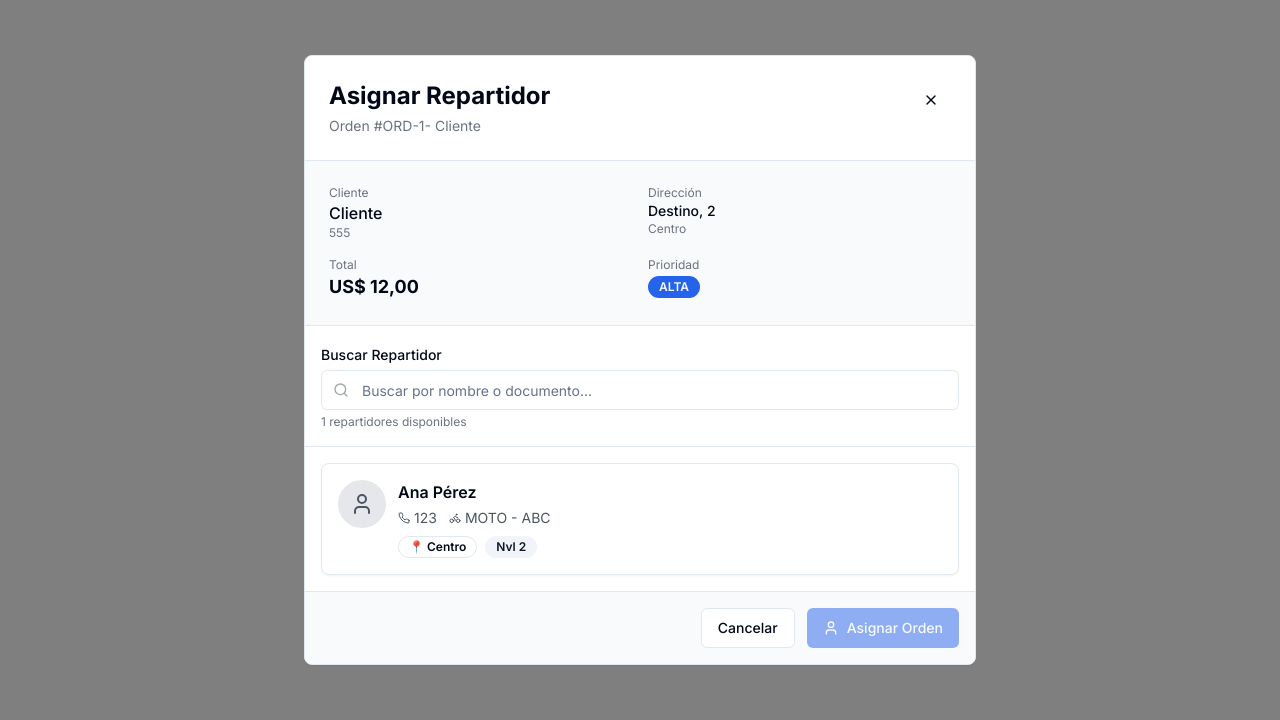
it: searches name and document and can clear an empty result
This screenshot has width=1280, height=720.
Type "123456" into the field labelled "Buscar Repartidor".
click(640, 390); type("123456")  # box [321, 370, 959, 410]
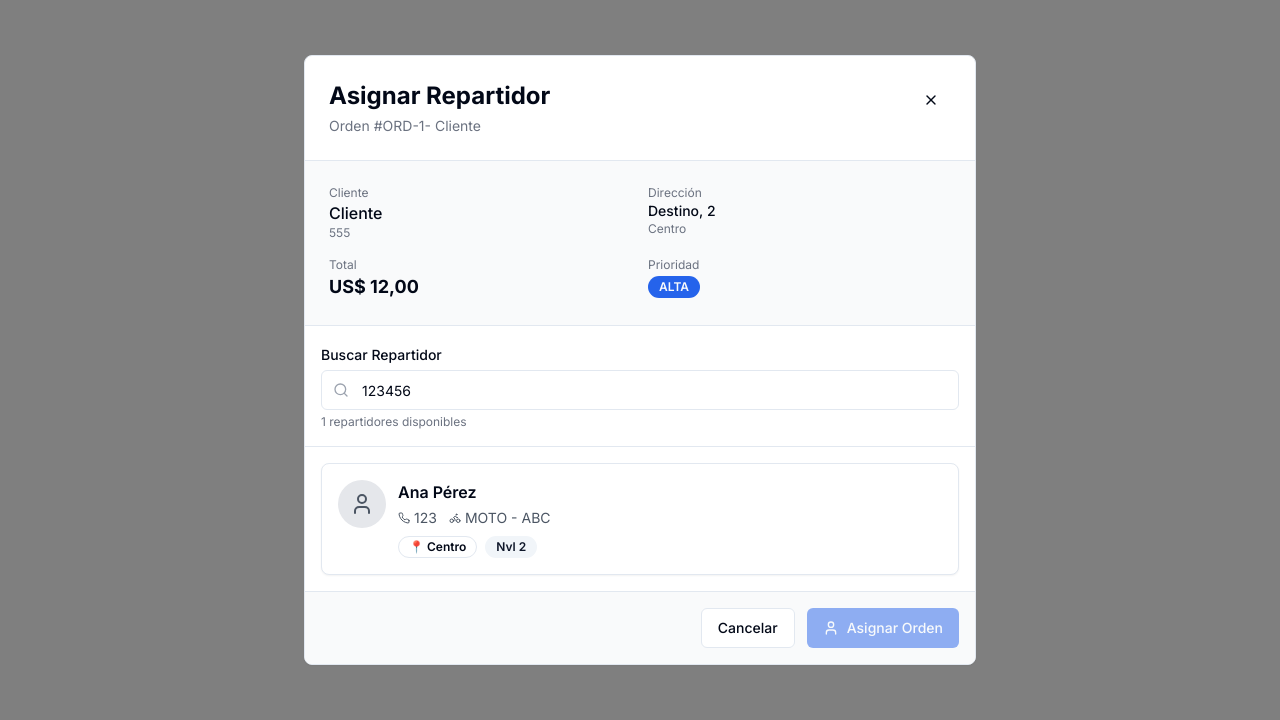
Expected: the button with aria-label "Seleccionar a Ana Pérez" is shown, [321, 463, 959, 575]
Replace the text in the field labelled "Buscar Repartidor" with "Not here" at x=640, y=390, box [321, 370, 959, 410]
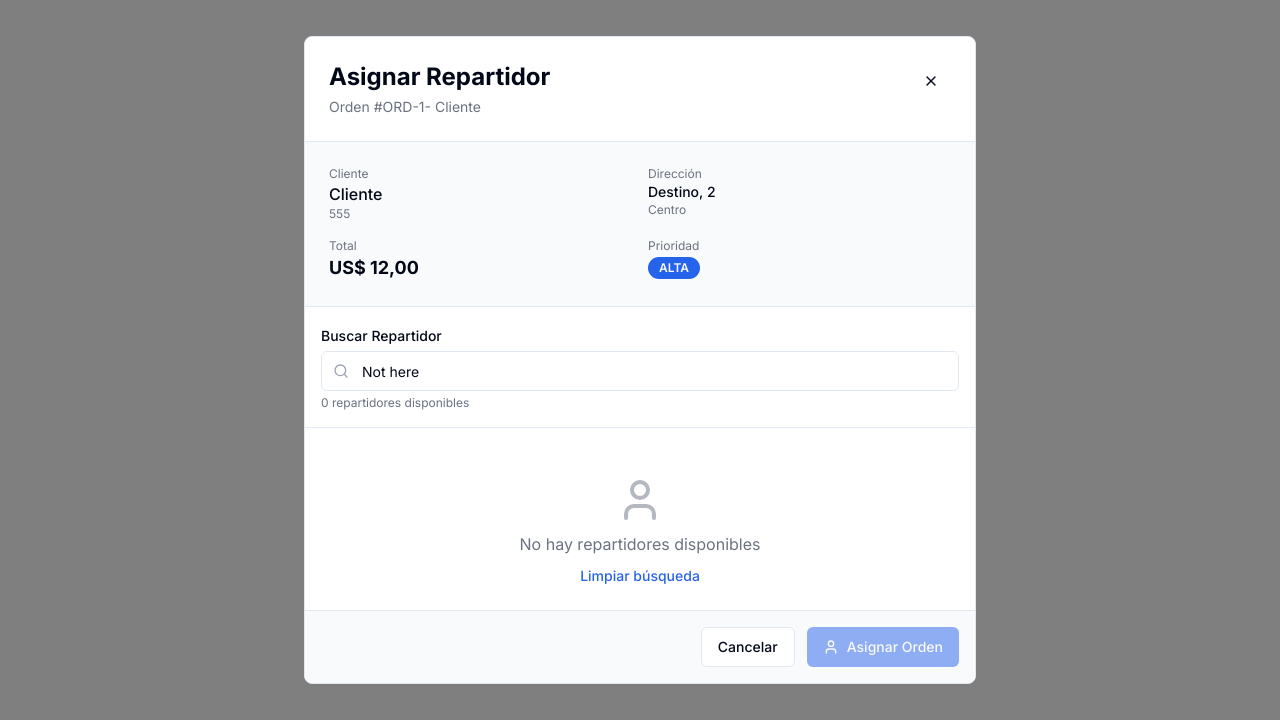
Now the text "No hay repartidores disponibles" is shown, box [520, 534, 760, 554]
Click the button "Limpiar búsqueda".
click(640, 576)  # box [564, 556, 716, 596]
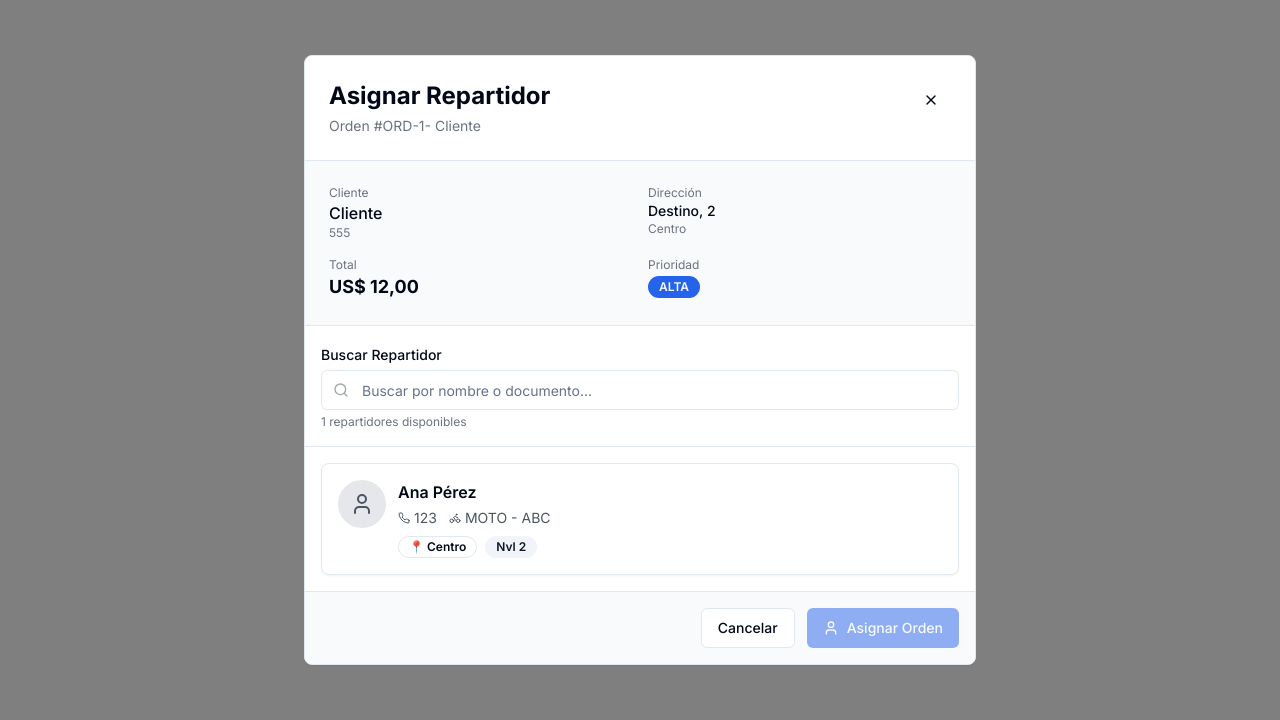
Now the button with aria-label "Seleccionar a Ana Pérez" is shown, box [321, 463, 959, 575]
